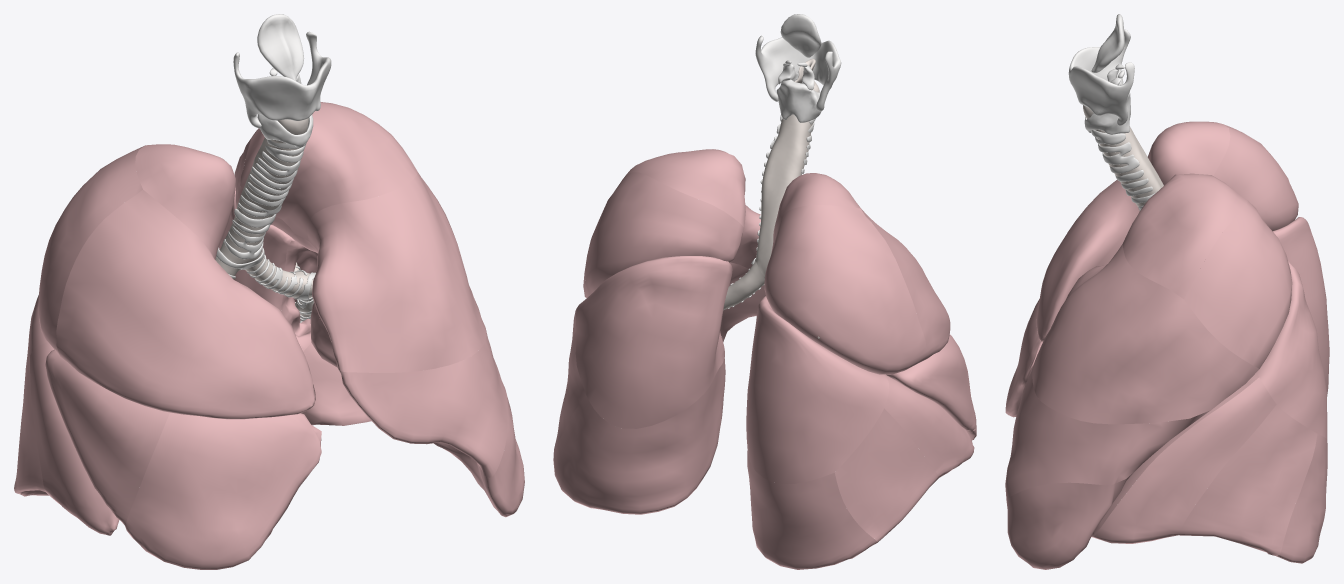
The model's file is VH_M_Lung.glb.
3 renders of one model, left to right at view 1: azimuth 30°, elevation 25°; view 2: azimuth 150°, elevation 25°; view 3: azimuth 270°, elevation 25°, orthographic. The views are drawn at different scales.
Visible parts, largest first — view 1: VH_M_right_anterior_bronchopulmonary_segment, VH_M_left_anterior_bronchopulmonary_segment, VH_M_right_medial_bronchopulmonary_segment, VH_M_left_lingula_superior_bronchopulmonary_segment, VH_M_left_apical_bronchopulmonary_segment, VH_M_right_lateral_bronchopulmonary_segment, VH_M_right_apical_bronchopulmonary_segment, VH_M_right_posterior_bronchopulmonary_segment, VH_M_right_anterior_basal_bronchopulmonary_segment, VH_M_thyroid_cartilage, VH_M_tracheal_cartilage, VH_M_left_lingula_inferior_bronchopulmonary_segment (+10 smaller); view 2: VH_M_left_superior_bronchopulmonary_segment, VH_M_right_posterior_bronchopulmonary_segment, VH_M_right_superior_bronchopulmonary_segment, VH_M_left_posetrior_basal_bronchopulmonary_segment, VH_M_left_posterior_bronchopulmonary_segment, VH_M_right_posterior_basal_bronchopulmonary_segment, VH_M_right_lateral_basal_bronchopulmonary_segment, VH_M_left_apical_bronchopulmonary_segment, VH_M_right_anterior_basal_bronchopulmonary_segment, VH_M_trachea, VH_M_right_lateral_bronchopulmonary_segment, VH_M_right_anterior_bronchopulmonary_segment (+8 smaller); view 3: VH_M_left_anterior_bronchopulmonary_segment, VH_M_left_lateral_basal_bronchopulmonary_segment, VH_M_left_posterior_bronchopulmonary_segment, VH_M_left_anterior_basal_bronchopulmonary_segment, VH_M_left_lingula_superior_bronchopulmonary_segment, VH_M_left_apical_bronchopulmonary_segment, VH_M_left_lingula_inferior_bronchopulmonary_segment, VH_M_right_anterior_bronchopulmonary_segment, VH_M_left_superior_bronchopulmonary_segment, VH_M_right_posterior_bronchopulmonary_segment, VH_M_right_apical_bronchopulmonary_segment, VH_M_left_posetrior_basal_bronchopulmonary_segment (+8 smaller).
Boxes of the visible parts, <box> form: VH_M_right_anterior_bronchopulmonary_segment: <box>56,189,315,419</box>; VH_M_left_anterior_bronchopulmonary_segment: <box>307,172,486,372</box>; VH_M_right_medial_bronchopulmonary_segment: <box>125,412,321,569</box>; VH_M_left_lingula_superior_bronchopulmonary_segment: <box>338,328,507,477</box>; VH_M_left_apical_bronchopulmonary_segment: <box>240,102,417,240</box>; VH_M_right_lateral_bronchopulmonary_segment: <box>45,349,169,525</box>; VH_M_right_apical_bronchopulmonary_segment: <box>135,144,235,259</box>; VH_M_right_posterior_bronchopulmonary_segment: <box>38,146,143,355</box>; VH_M_right_anterior_basal_bronchopulmonary_segment: <box>30,342,119,535</box>; VH_M_thyroid_cartilage: <box>233,31,331,128</box>; VH_M_tracheal_cartilage: <box>224,139,306,259</box>; VH_M_left_lingula_inferior_bronchopulmonary_segment: <box>311,318,524,517</box>; VH_M_left_superior_bronchopulmonary_segment: <box>575,256,732,428</box>; VH_M_right_posterior_bronchopulmonary_segment: <box>764,205,927,374</box>; VH_M_right_superior_bronchopulmonary_segment: <box>746,296,889,483</box>; VH_M_left_posetrior_basal_bronchopulmonary_segment: <box>553,359,725,514</box>; VH_M_left_posterior_bronchopulmonary_segment: <box>585,172,744,294</box>; VH_M_right_posterior_basal_bronchopulmonary_segment: <box>747,450,876,569</box>; VH_M_right_lateral_basal_bronchopulmonary_segment: <box>835,408,938,542</box>; VH_M_left_apical_bronchopulmonary_segment: <box>624,149,745,227</box>; VH_M_right_anterior_basal_bronchopulmonary_segment: <box>884,374,974,477</box>; VH_M_trachea: <box>755,59,819,278</box>; VH_M_right_lateral_bronchopulmonary_segment: <box>886,334,975,431</box>; VH_M_right_anterior_bronchopulmonary_segment: <box>861,209,950,358</box>; VH_M_left_anterior_bronchopulmonary_segment: <box>1032,243,1259,424</box>; VH_M_left_lateral_basal_bronchopulmonary_segment: <box>1178,404,1317,556</box>; VH_M_left_posterior_bronchopulmonary_segment: <box>1184,200,1292,368</box>; VH_M_left_anterior_basal_bronchopulmonary_segment: <box>1091,377,1276,543</box>; VH_M_left_lingula_superior_bronchopulmonary_segment: <box>1005,365,1254,499</box>; VH_M_left_apical_bronchopulmonary_segment: <box>1123,173,1247,299</box>; VH_M_left_lingula_inferior_bronchopulmonary_segment: <box>1006,472,1133,569</box>; VH_M_right_anterior_bronchopulmonary_segment: <box>1036,180,1139,341</box>; VH_M_left_superior_bronchopulmonary_segment: <box>1256,260,1327,438</box>; VH_M_right_posterior_bronchopulmonary_segment: <box>1213,124,1298,231</box>; VH_M_right_apical_bronchopulmonary_segment: <box>1138,121,1230,211</box>; VH_M_left_posetrior_basal_bronchopulmonary_segment: <box>1276,434,1327,563</box>.
Bounding box in the file's own units: 0.2594 × 0.3146 × 0.1897.
